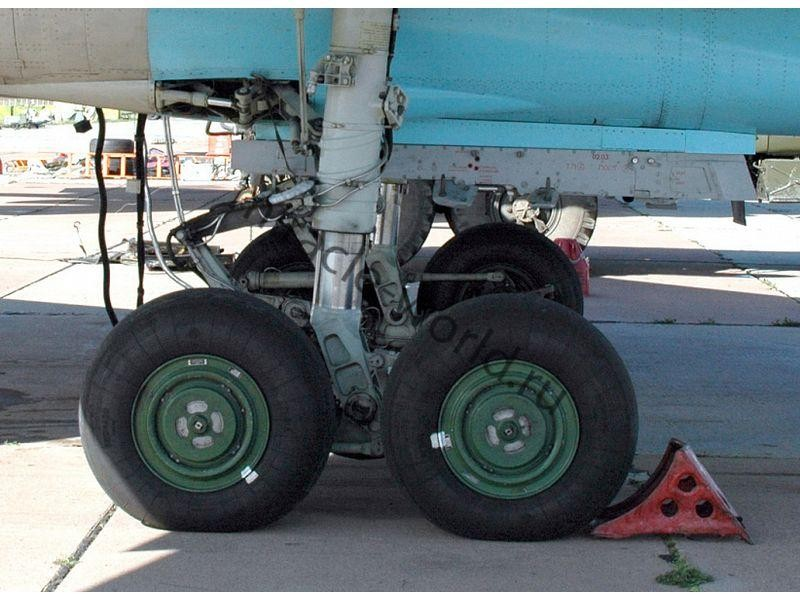chock: (589, 436, 756, 545)
wheel: (76, 285, 338, 534), (384, 290, 641, 543), (417, 223, 585, 317), (224, 223, 320, 301)
